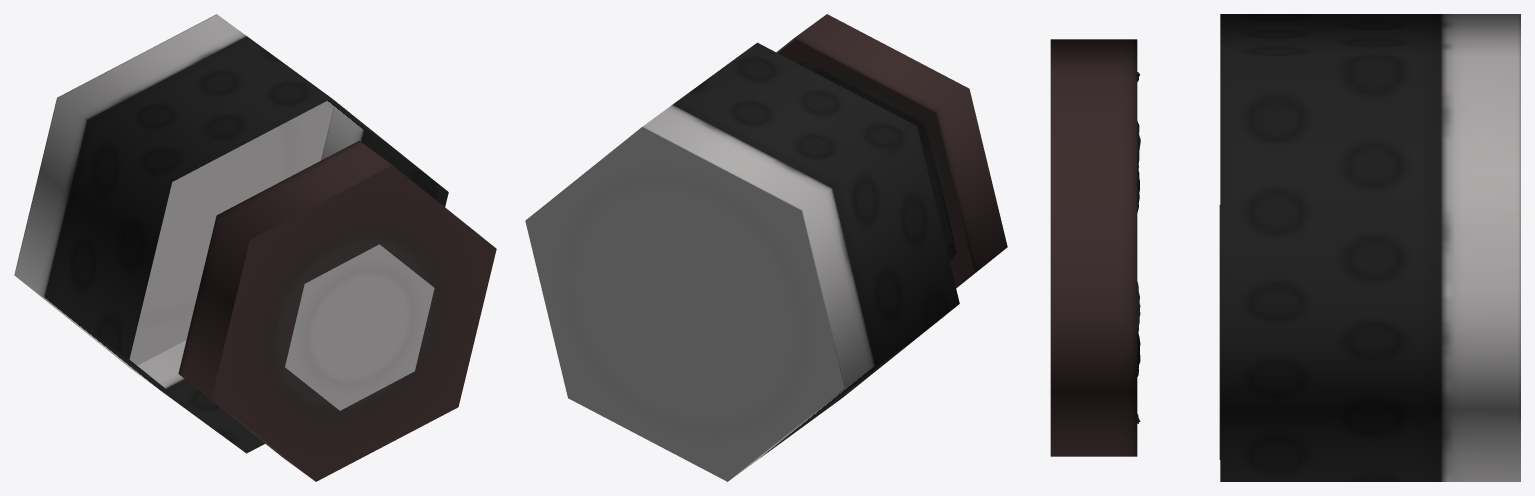
Rendered from obj_interactive_suspensionsport_05_on_lod1.fbx.
The picture shows the model from 3 angles, left to right: view 1: azimuth 30°, elevation 25°; view 2: azimuth 150°, elevation 25°; view 3: azimuth 270°, elevation 25°; orthographic projection. The views are drawn at different scales.
Visible parts, largest first — view 1: obj_interactive_suspensionsport_05_on_lod1; view 2: obj_interactive_suspensionsport_05_on_lod1; view 3: obj_interactive_suspensionsport_05_on_lod1.
Boxes of the visible parts, x1=… form: obj_interactive_suspensionsport_05_on_lod1: x1=14, y1=14, x2=496, y2=481; obj_interactive_suspensionsport_05_on_lod1: x1=525, y1=14, x2=1007, y2=481; obj_interactive_suspensionsport_05_on_lod1: x1=1050, y1=14, x2=1520, y2=481.
Bounding box in the file's own units: 1.02 × 1.02 × 1.03.
1 material, 1 textured.
